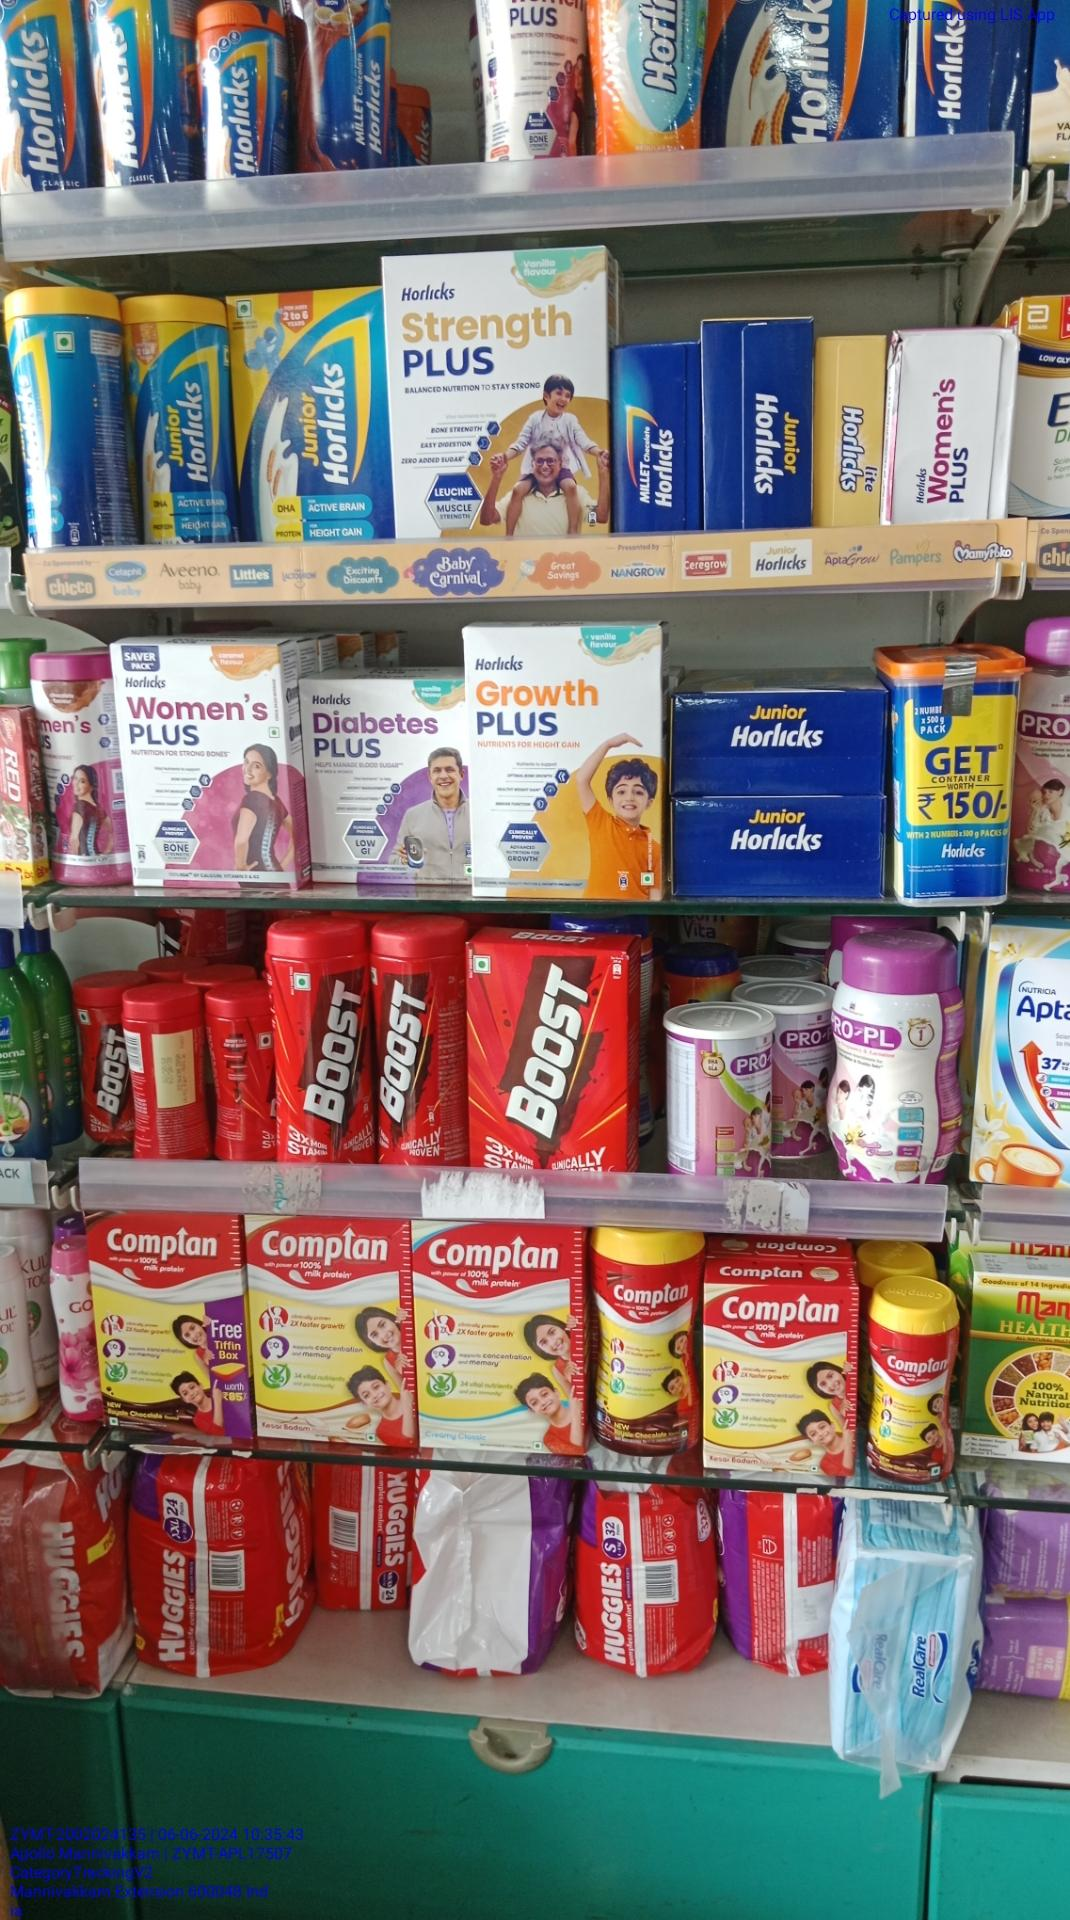COMPLAN_CHOCOLATE_200_GMS_JAR: (868, 1291, 957, 1476)
COMPLAN_CHOCOLATE_500_GMS_JAR: (593, 1226, 694, 1454)
COMPLAN_CREAMY_CLASSIC_500_G_PACK: (414, 1220, 588, 1454)
HORLICKS_JUNIOR_VANILLA_500_GM_JAR: (130, 296, 231, 547)
HORLICK_CLASSIC_MALT_200_G_JAR: (198, 8, 281, 202)
